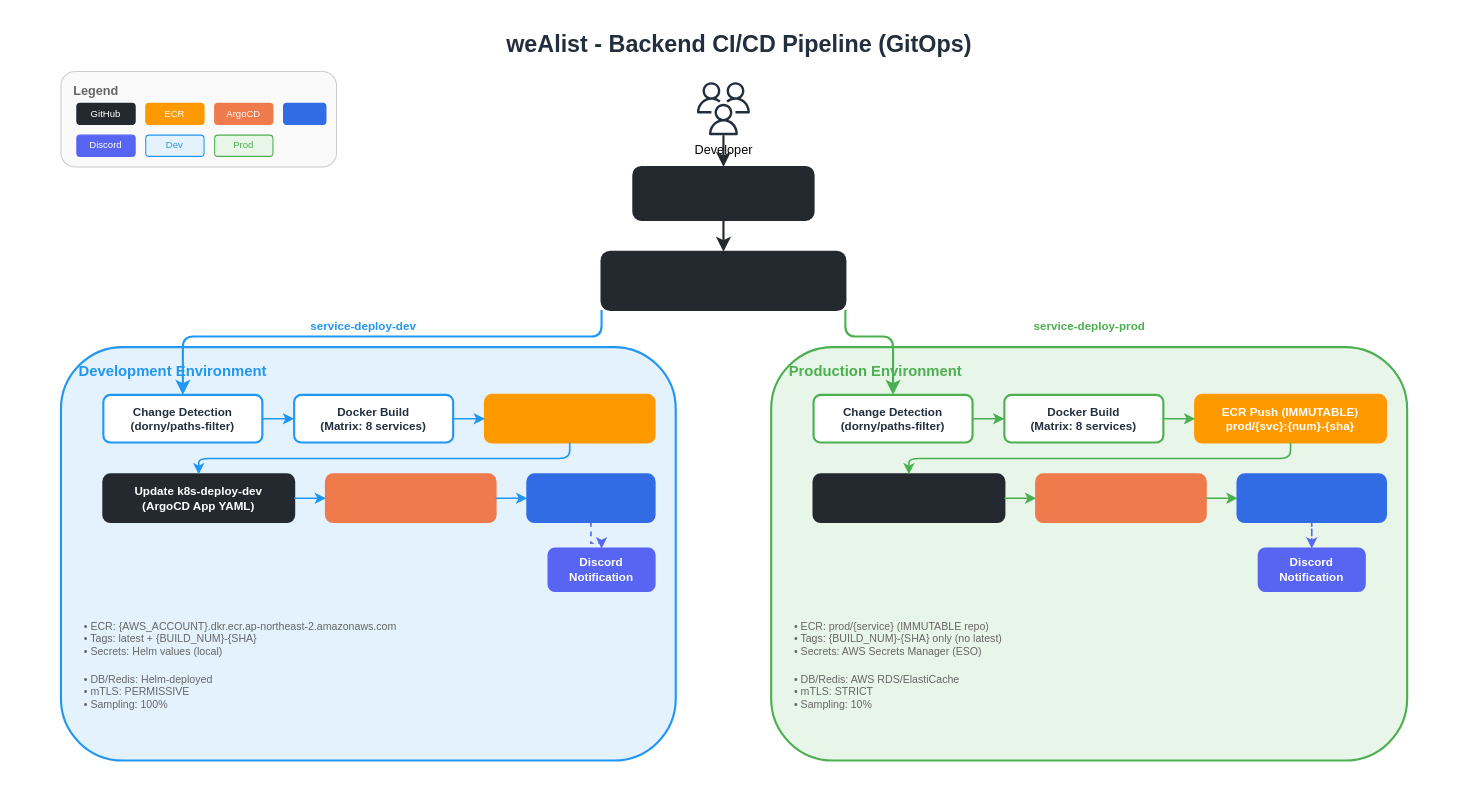
Image size: 1478x810. Some labels were removed from this diagram. The shapes that lost their labels are listed below. From the top down, each one's centre as x and y in pixels, then its label:
At pixel 304 113: "K8s".
At pixel 723 192: "GitHub Push service-deploy-{env}".
At pixel 723 280: "GitHub Actions ci-build-images.yaml".
At pixel 569 418: "ECR Push {svc}:latest + {num}-{sha}".
At pixel 410 498: "ArgoCD Auto Sync wealist-dev project".
At pixel 590 498: "EKS Dev Cluster wealist-dev namespace".
At pixel 908 498: "Update k8s-deploy-prod (ArgoCD App YAML)".
At pixel 1120 498: "ArgoCD Auto Sync wealist-prod project".
At pixel 1311 498: "EKS Prod Cluster wealist-prod namespace".
